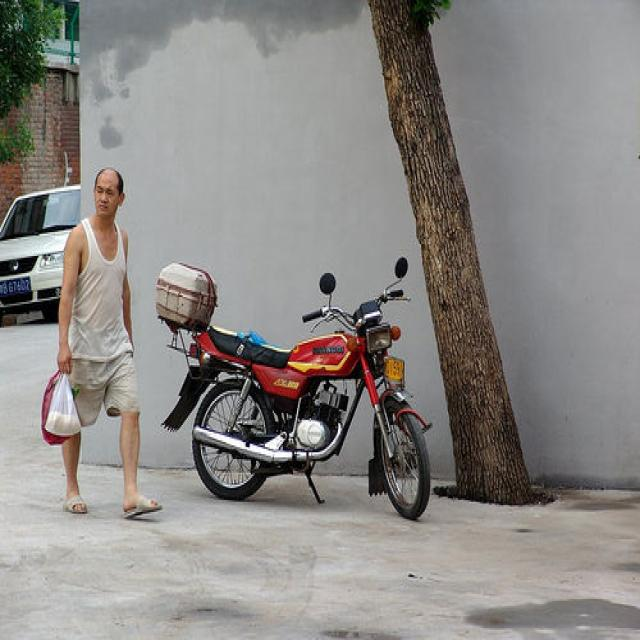motor: (154, 252, 438, 528)
